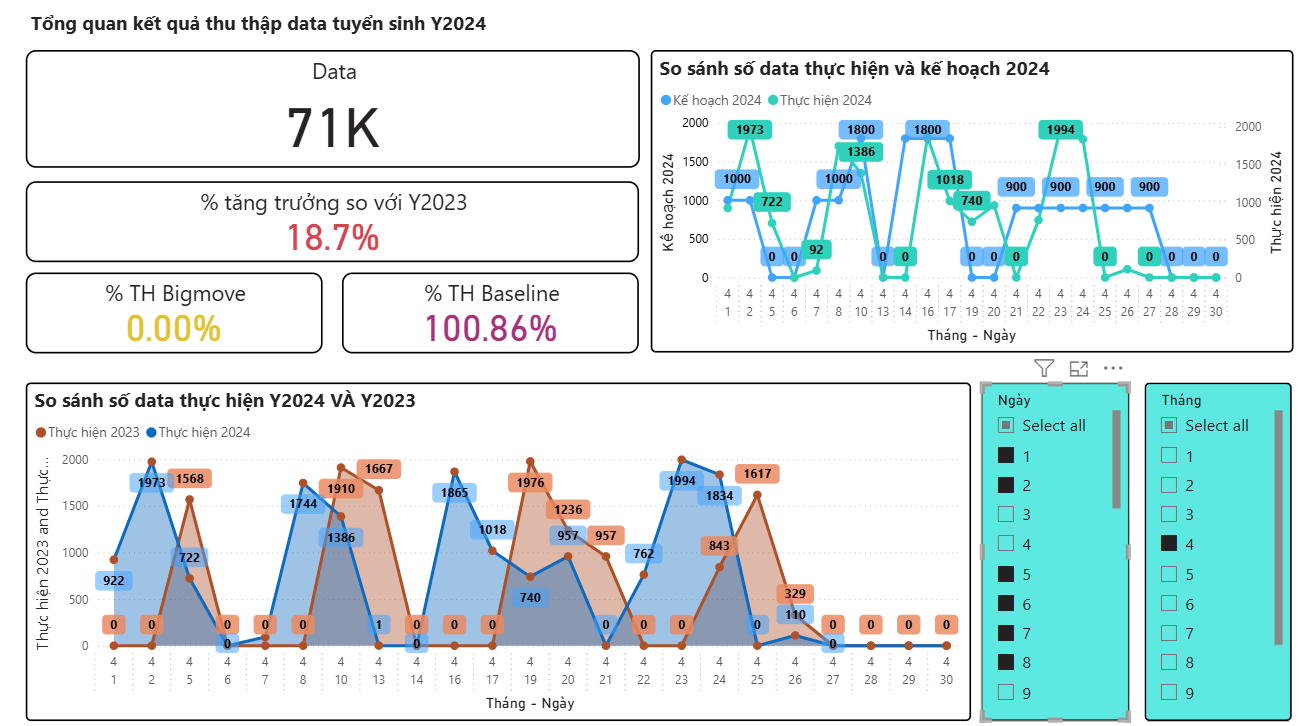

The dashboard page shown, as its layout file describes it:
{"tool":"powerbi","page":{"name":"DATA (Theo ngày)","canvas":[1280,720],"ordinal":1},"visuals":[{"type":"slicer","fields":{"Values":["DATA_APP.DayNumber"]},"box":[962.6,379.6,145.4,331.2],"z":0},{"type":"slicer","fields":{"Values":["DATA_APP.MonthNumber"]},"box":[1122.8,379.6,144,331.2],"z":1000},{"type":"card","title":"% tăng trưởng so với Y2023","fields":{"Values":["DATA_APP.Data% Tăng Trưởng So Với Y2023"]},"box":[28.2,181.7,600,78.9],"z":2000},{"type":"card","title":"Data","fields":{"Values":["DATA_APP.DATA_Total(Fixed)"]},"box":[28.2,53.6,600.6,115.3],"z":3000},{"type":"card","title":"% TH Bigmove","fields":{"Values":["DATA_APP.DATA%BigMove"]},"box":[28.2,271.8,290.1,78.9],"z":4000},{"type":"card","title":"% TH Baseline","fields":{"Values":["DATA_APP.DATA%BaseLine"]},"box":[338,271.8,290.1,78.9],"z":5000},{"type":"lineChart","title":"So sánh số data thực hiện và kế hoạch 2024","fields":{"Y":["Sum(DATA_APP.DATA_DD_BL2024)"],"Category":["DATA_APP.DayNumber","DATA_APP.MonthNumber"],"Y2":["Sum(DATA_APP.DATA_DD_TH2024)"]},"box":[639.5,53.6,628.7,296.3],"z":6000},{"type":"areaChart","title":"So sánh số data thực hiện Y2024 VÀ Y2023","fields":{"Category":["DATA_APP.DayNumber","DATA_APP.MonthNumber"],"Y":["Sum(DATA_APP.DATA_DD_TH2023)","Sum(DATA_APP.DATA_DD_TH2024)"]},"box":[28.3,379.6,924.9,331.2],"z":7000},{"type":"textbox","box":[28.1,9.8,539.3,44],"z":8000}]}

Visuals, with their boxes in screenshot pixels (x1, y1, x2, y2), scaled from the page's 1280x720 canvas onto the 1301x726 screenshot:
slicer - DATA_APP.DayNumber: x1=978 y1=383 x2=1126 y2=717
slicer - DATA_APP.MonthNumber: x1=1141 y1=383 x2=1288 y2=717
"% tăng trưởng so với Y2023" card: x1=29 y1=183 x2=639 y2=263
"Data" card: x1=29 y1=54 x2=639 y2=170
"% TH Bigmove" card: x1=29 y1=274 x2=324 y2=354
"% TH Baseline" card: x1=344 y1=274 x2=638 y2=354
"So sánh số data thực hiện và kế hoạch 2024" lineChart: x1=650 y1=54 x2=1289 y2=353
"So sánh số data thực hiện Y2024 VÀ Y2023" areaChart: x1=29 y1=383 x2=969 y2=717
textbox: x1=29 y1=10 x2=577 y2=54
